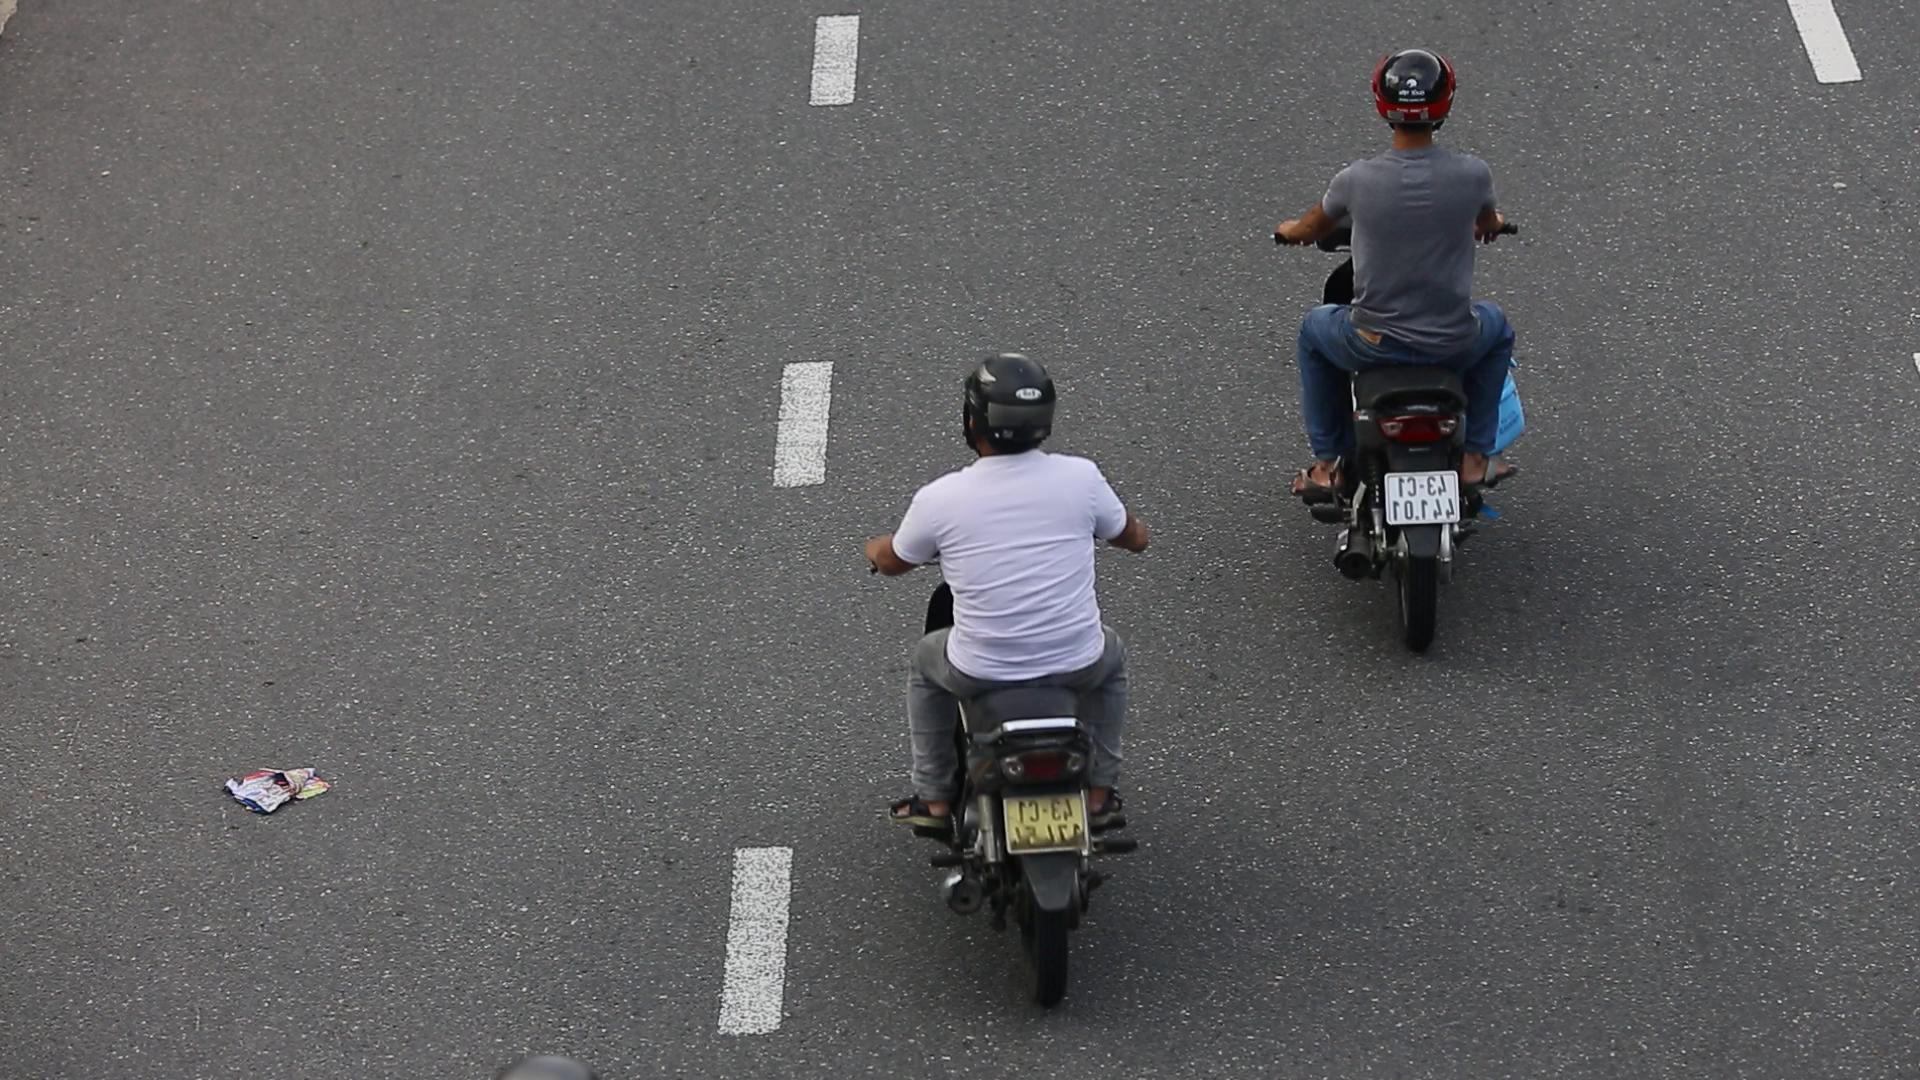motobike: (843, 314, 1170, 1026), (1270, 30, 1542, 676)
